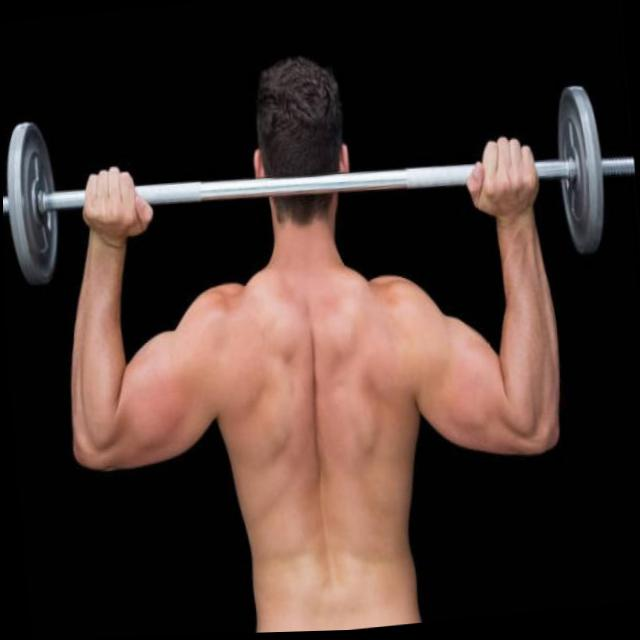no helmet: (242, 63, 359, 260)
